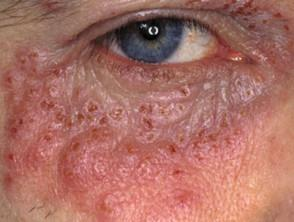Eczema: (12, 41, 48, 80), (88, 187, 130, 218), (229, 69, 268, 102), (214, 109, 243, 150), (221, 0, 263, 27), (131, 96, 159, 135), (148, 93, 182, 124), (165, 183, 202, 210), (62, 131, 89, 166), (155, 133, 186, 163), (251, 36, 283, 65), (192, 126, 219, 160), (0, 110, 25, 146), (41, 58, 70, 89), (265, 4, 294, 33), (126, 149, 159, 174), (161, 160, 196, 183), (88, 113, 111, 147), (28, 0, 80, 15), (16, 145, 51, 167), (57, 161, 85, 187), (171, 80, 197, 107), (35, 126, 62, 151), (49, 179, 74, 205), (33, 95, 60, 118), (103, 101, 130, 124), (47, 107, 73, 130), (91, 156, 114, 181), (115, 139, 140, 162), (80, 97, 105, 120), (177, 1, 218, 14), (0, 70, 23, 92), (0, 168, 25, 187), (0, 146, 27, 162)
